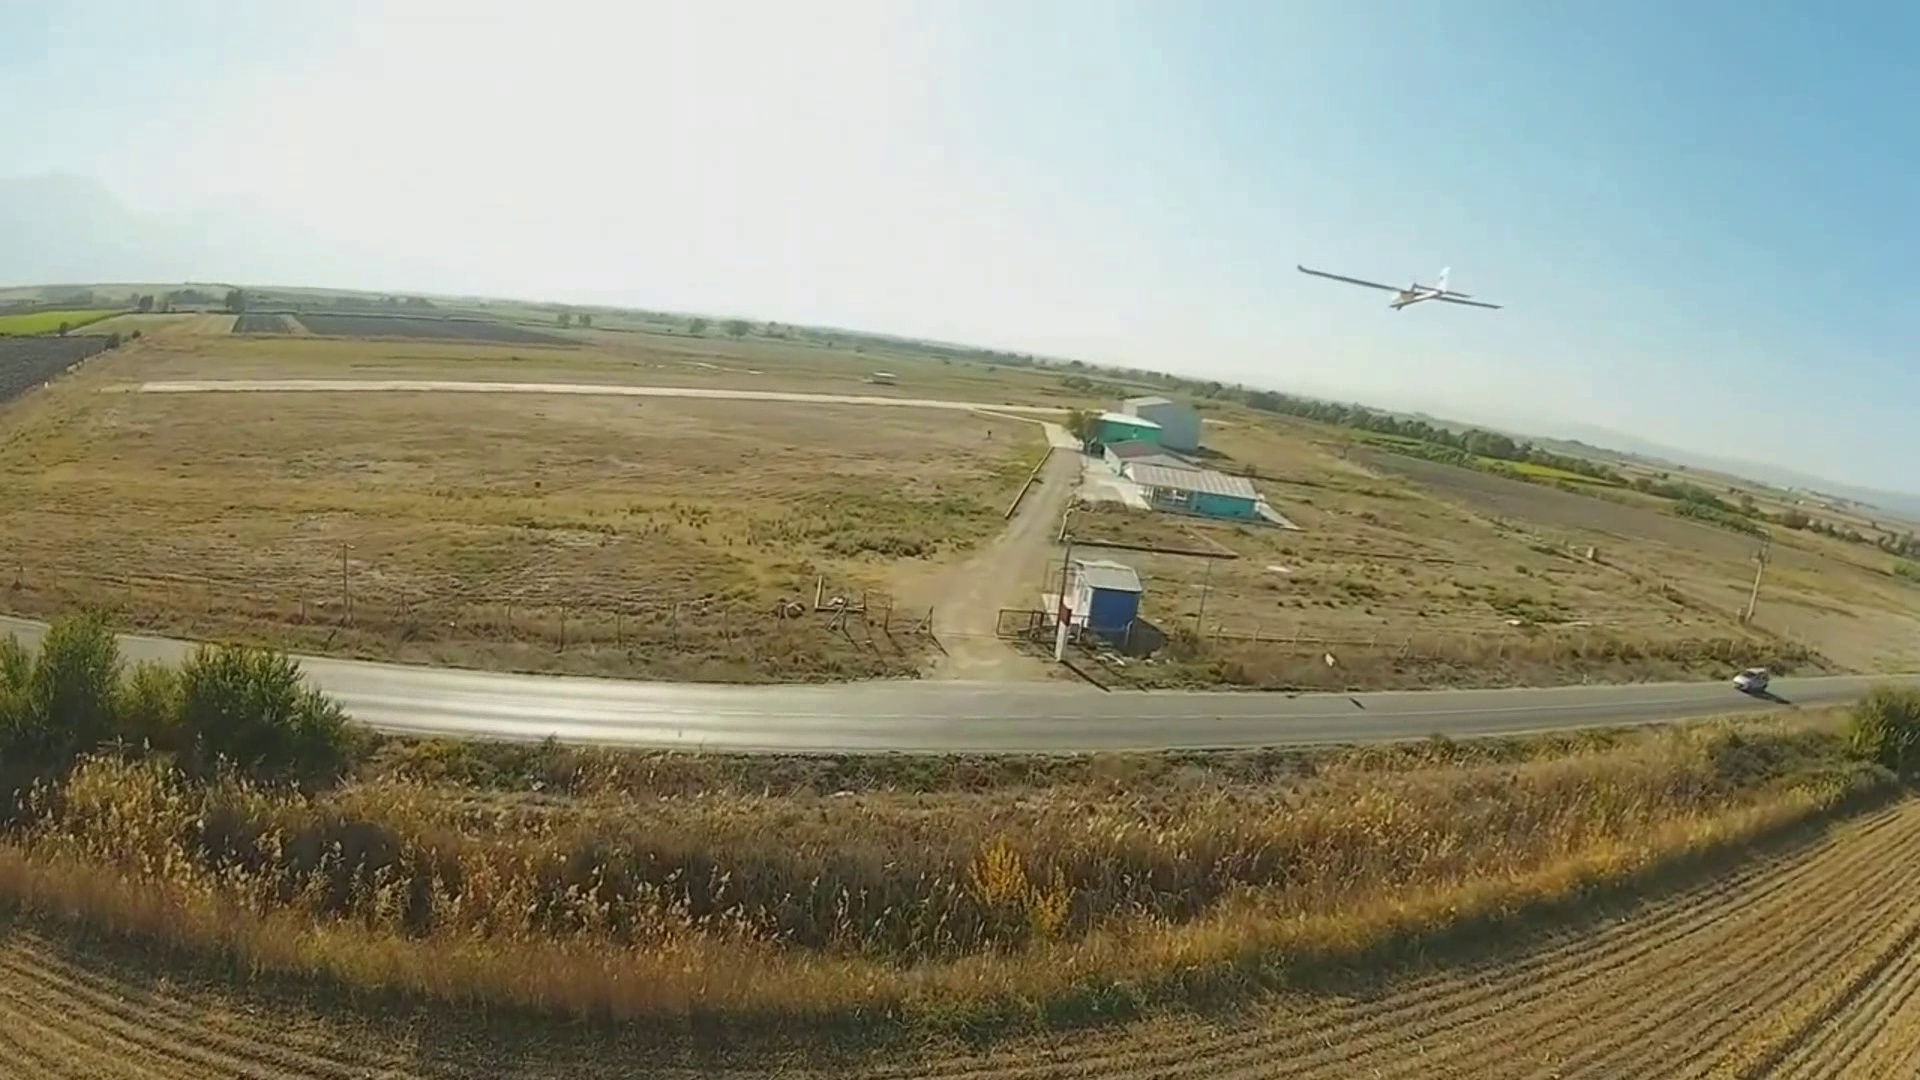airplane: (1298, 260, 1506, 318)
